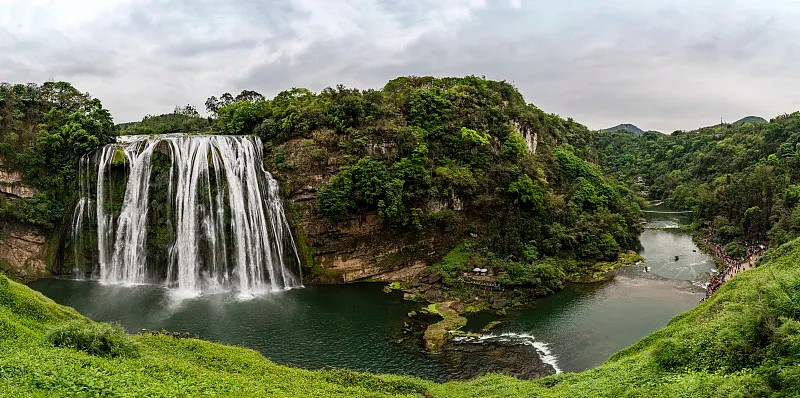Huangguoshu: (62, 135, 303, 292)
